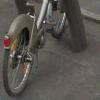Bicycle: (3, 0, 69, 98)
